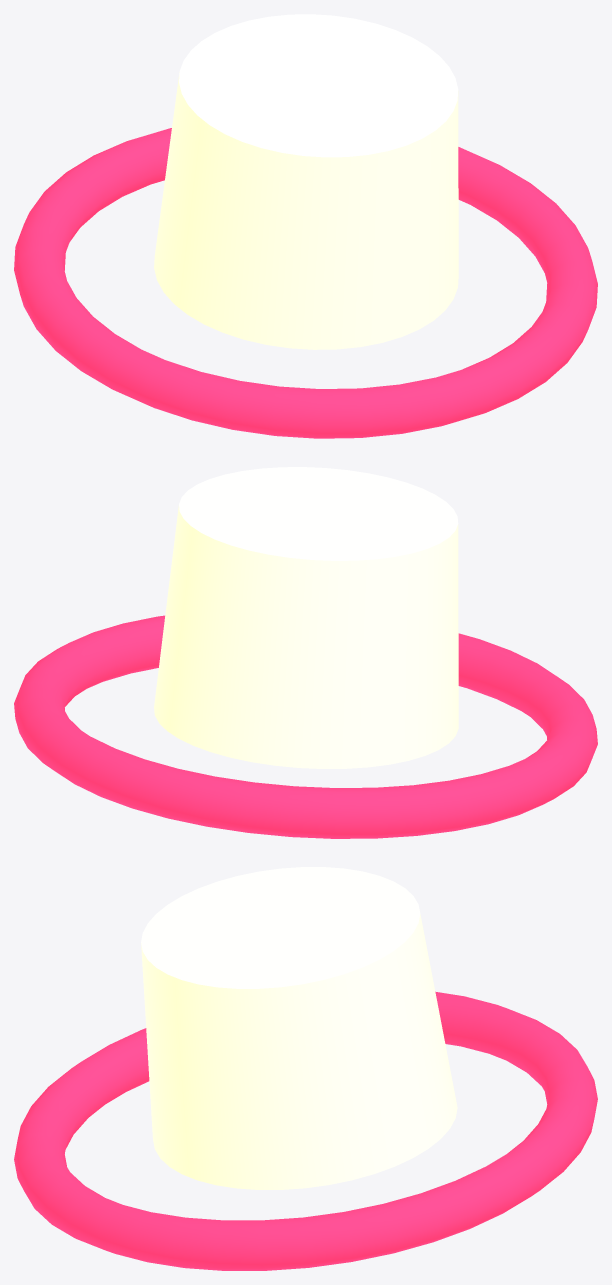
The model's file is pp_light_bumper1.glb.
The picture shows the model from 3 angles, top to bottom: view 1: azimuth 30°, elevation 25°; view 2: azimuth 150°, elevation 25°; view 3: azimuth 270°, elevation 25°; orthographic projection.
Visible parts, largest first — view 1: BumperFlash, BumperRing; view 2: BumperFlash, BumperRing; view 3: BumperFlash, BumperRing.
Part boxes in pixels (box(x1,y1,x2,y2)): BumperFlash: box(154, 14, 458, 349); BumperRing: box(14, 128, 597, 438); BumperFlash: box(154, 467, 458, 768); BumperRing: box(14, 615, 597, 838); BumperFlash: box(141, 867, 457, 1189); BumperRing: box(14, 991, 597, 1270).
Bounding box in the file's own units: 0.092 × 0.0459 × 0.0914.
